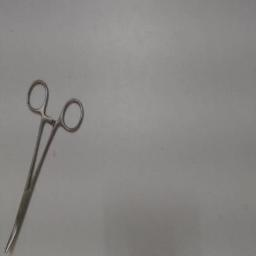Crile Artery Forceps: (2, 75, 88, 255)
